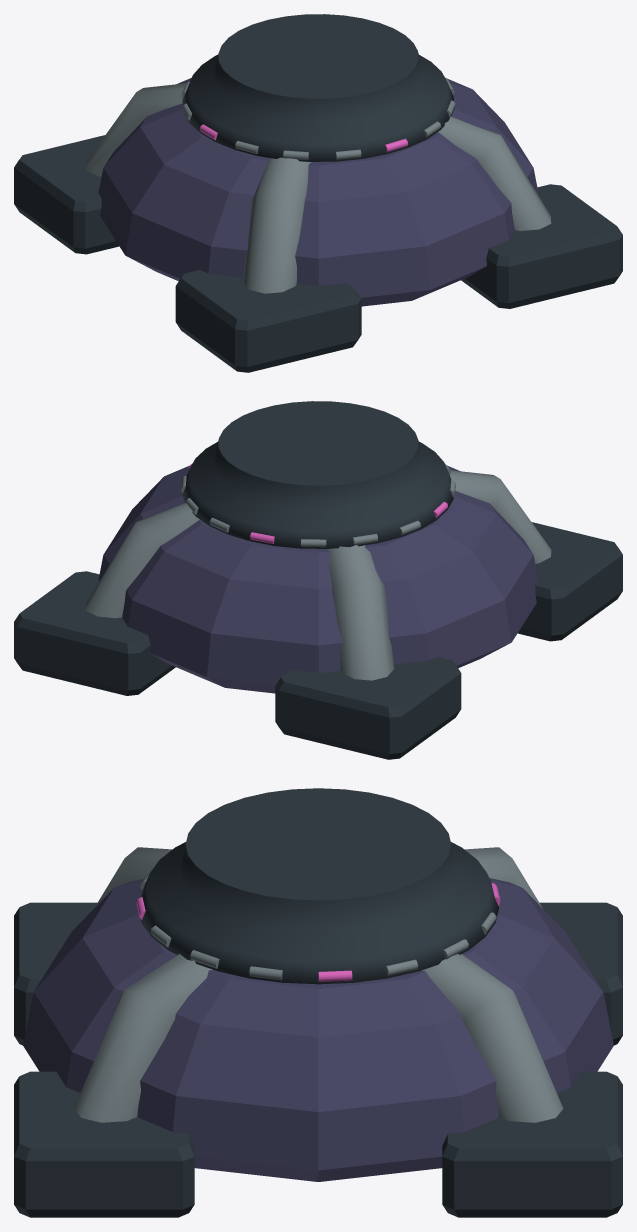
Rendered from mount_vespera.glb.
3 renders of one model, top to bottom at view 1: azimuth 30°, elevation 25°; view 2: azimuth 150°, elevation 25°; view 3: azimuth 270°, elevation 25°, orthographic. The views are drawn at different scales.
Parts seen in each view (by area): view 1: mount_vespera; view 2: mount_vespera; view 3: mount_vespera.
Part boxes in pixels (<box>): mount_vespera: <box>14,14,622,372</box>; mount_vespera: <box>14,401,622,759</box>; mount_vespera: <box>14,788,622,1217</box>.
Bounding box in the file's own units: 5.58 × 2.6 × 5.73.
